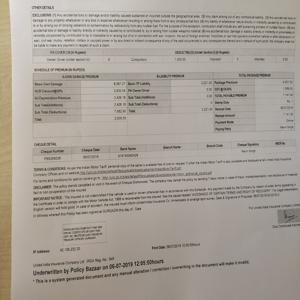table: (31, 72, 295, 131), (33, 141, 297, 163), (33, 47, 295, 65)
text: (34, 168, 300, 218), (33, 12, 296, 47), (31, 260, 276, 286)
